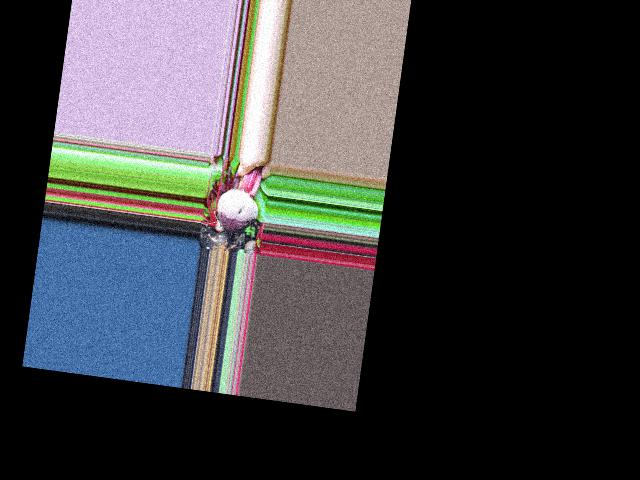beet: (211, 160, 264, 255)
